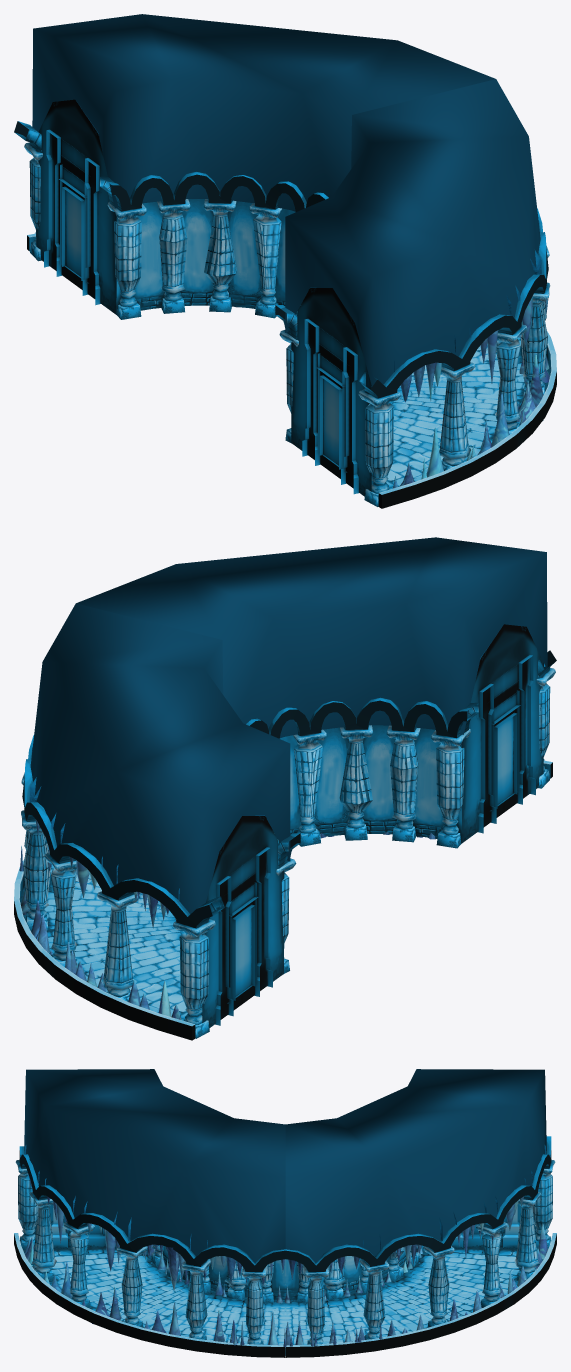
The model's file is BG_Hall_Stage_Ice_141104.fbx.
The picture shows the model from 3 angles, top to bottom: view 1: azimuth 30°, elevation 25°; view 2: azimuth 150°, elevation 25°; view 3: azimuth 270°, elevation 25°; orthographic projection. The views are drawn at different scales.
Parts seen in each view (by area): view 1: BG_Hall_Stage_Ice_Dumy, BG_Hall_Stage_Ice_Door, BG_Hall_Stage_Ice_Columm, BG_Hall_Stage_Ice_Wall, BG_Hall_Stage_Ice_Floor, polySurface1; view 2: BG_Hall_Stage_Ice_Dumy, BG_Hall_Stage_Ice_Door, BG_Hall_Stage_Ice_Columm, BG_Hall_Stage_Ice_Wall, BG_Hall_Stage_Ice_Floor, polySurface1; view 3: BG_Hall_Stage_Ice_Dumy, BG_Hall_Stage_Ice_Floor, BG_Hall_Stage_Ice_Columm, BG_Hall_Stage_Ice_Wall, polySurface1, BG_Hall_Stage_Ice_Door, BG_Hall_Stage_Ice_Celling.
Part boxes in pixels (bbox=[...]): BG_Hall_Stage_Ice_Dumy: bbox=[32, 14, 540, 394]; BG_Hall_Stage_Ice_Door: bbox=[36, 99, 372, 496]; BG_Hall_Stage_Ice_Columm: bbox=[24, 142, 550, 506]; BG_Hall_Stage_Ice_Wall: bbox=[14, 121, 548, 398]; BG_Hall_Stage_Ice_Floor: bbox=[27, 233, 556, 508]; polySurface1: bbox=[144, 296, 549, 488]; BG_Hall_Stage_Ice_Dumy: bbox=[30, 537, 547, 924]; BG_Hall_Stage_Ice_Door: bbox=[201, 624, 543, 1027]; BG_Hall_Stage_Ice_Columm: bbox=[21, 668, 555, 1038]; BG_Hall_Stage_Ice_Wall: bbox=[22, 650, 556, 948]; BG_Hall_Stage_Ice_Floor: bbox=[14, 760, 552, 1040]; polySurface1: bbox=[19, 819, 435, 1020]; BG_Hall_Stage_Ice_Dumy: bbox=[24, 1069, 546, 1262]; BG_Hall_Stage_Ice_Floor: bbox=[14, 1233, 556, 1357]; BG_Hall_Stage_Ice_Columm: bbox=[15, 1159, 555, 1344]; BG_Hall_Stage_Ice_Wall: bbox=[19, 1136, 551, 1299]; polySurface1: bbox=[24, 1174, 547, 1346]; BG_Hall_Stage_Ice_Door: bbox=[34, 1205, 536, 1248]; BG_Hall_Stage_Ice_Celling: bbox=[25, 1145, 545, 1250].
Size of the model in its own units: 105 by 71.93 by 201.
